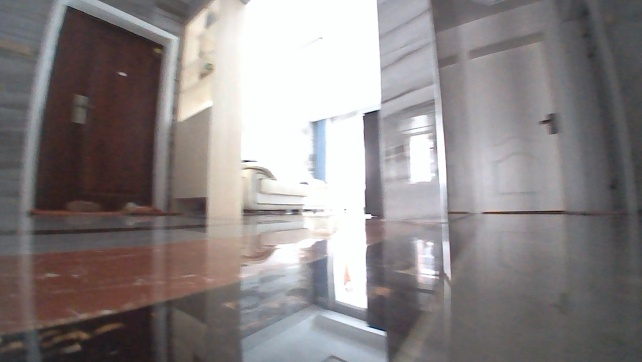door_anno: (28, 7, 170, 215), (470, 40, 569, 216)
sofa1: (240, 160, 311, 215)
